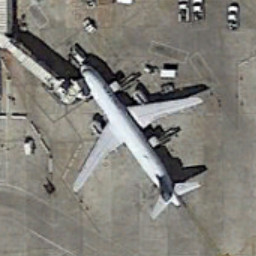Airplane: (60, 43, 218, 229)
